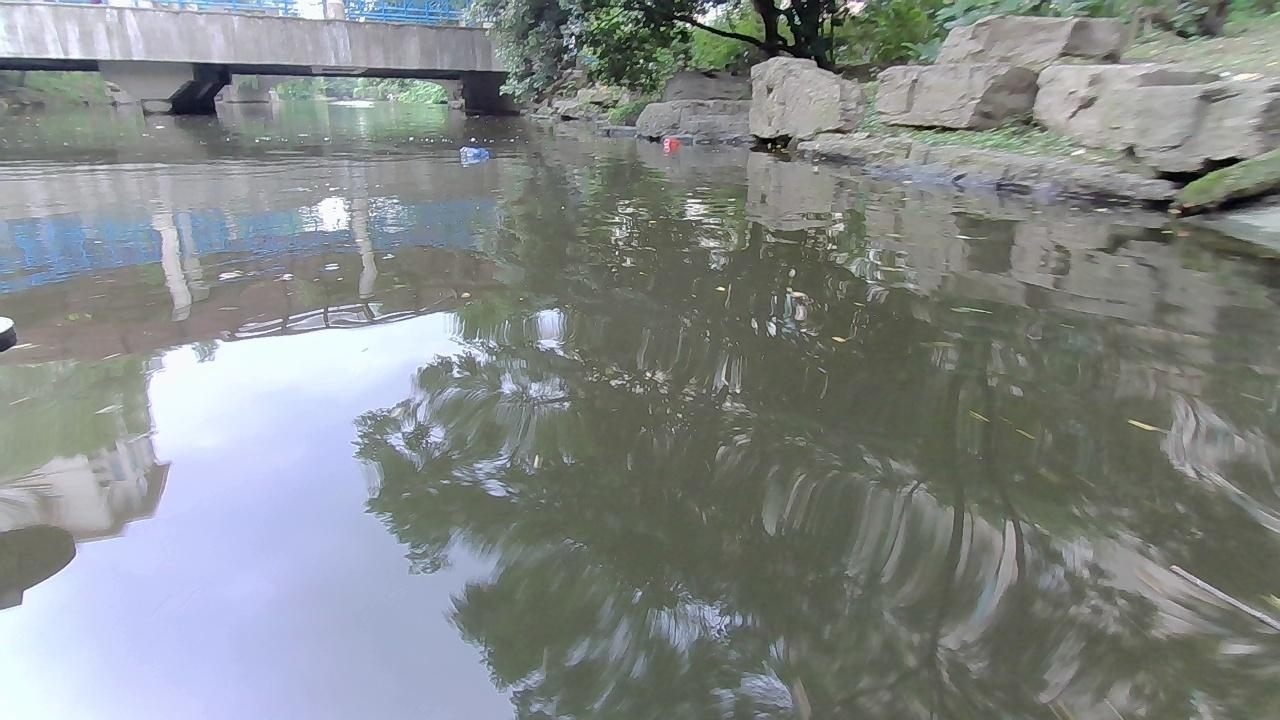bottle: (456, 141, 489, 156), (660, 138, 677, 149)
